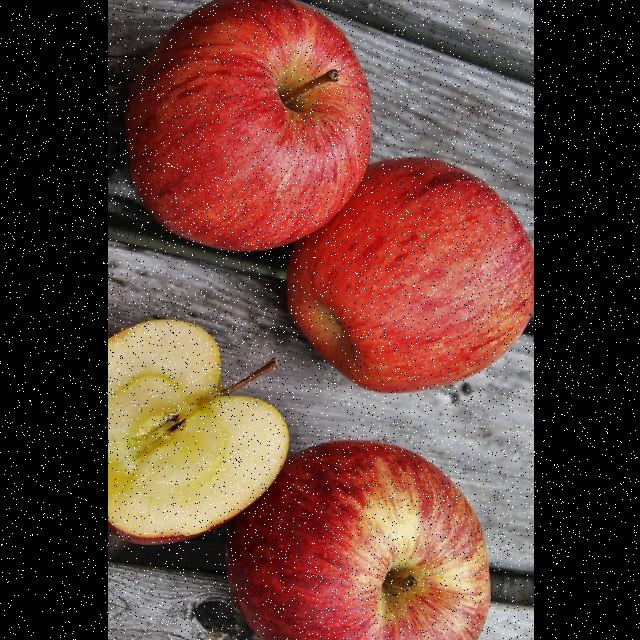Apel Segar: (281, 120, 533, 408), (106, 1, 380, 260), (221, 448, 504, 640), (106, 286, 278, 572)
